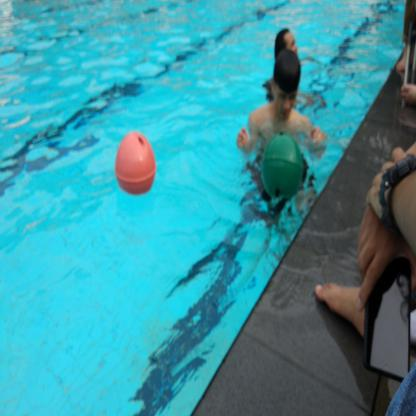green_buoy: (260, 131, 306, 206)
red_buoy: (112, 128, 159, 201)
